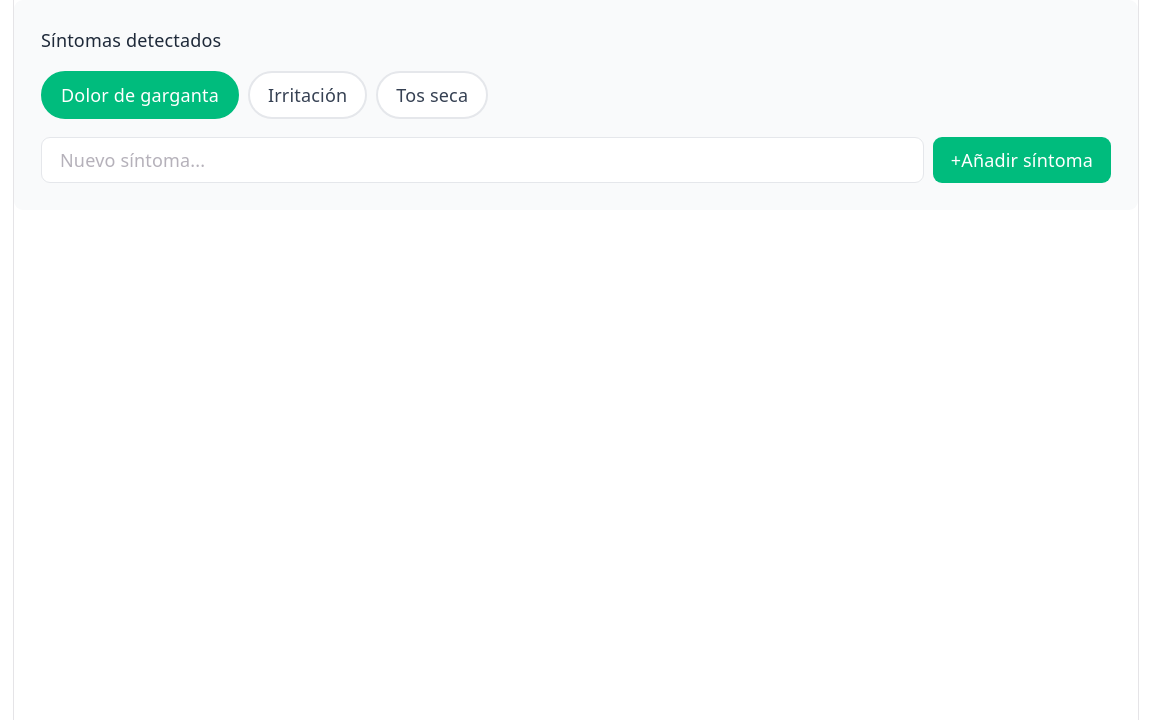
Test: SymptomsSection › adds new symptom, selects it and clears input when submitting "Añadir síntoma"
Type "Fiebre" into the field named "añadir síntoma" at (482, 160), box [41, 137, 924, 183]
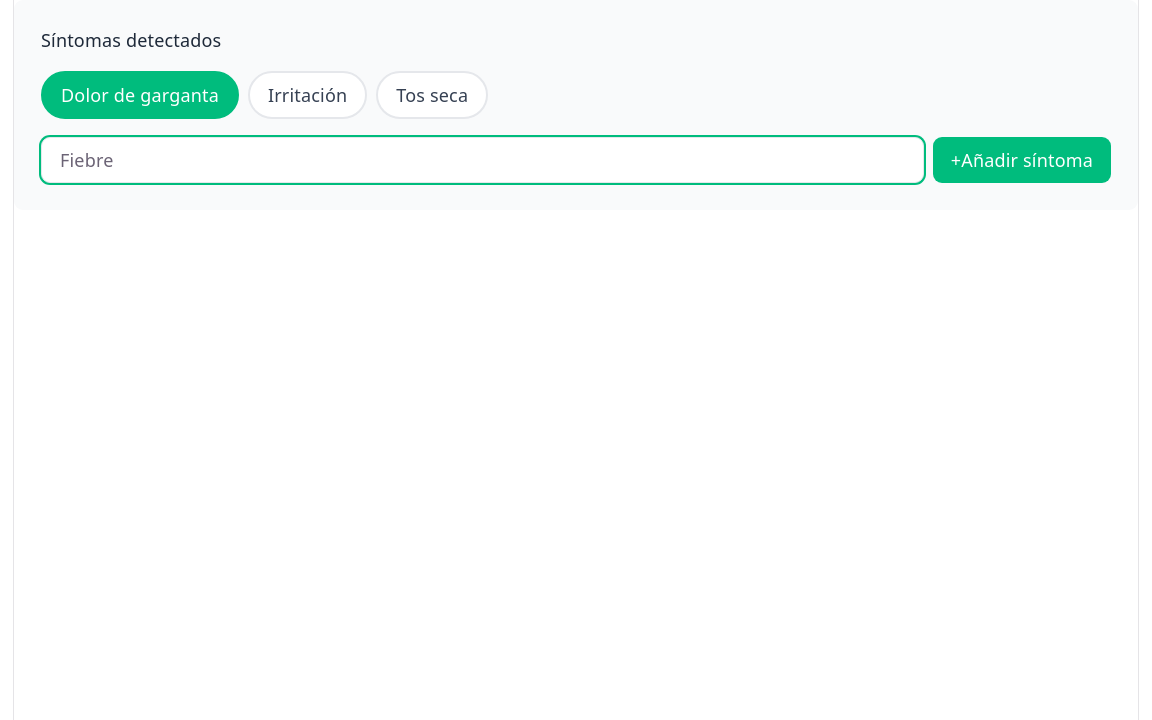
Click the button "+Añadir síntoma" at (1022, 160), box [933, 137, 1111, 183]
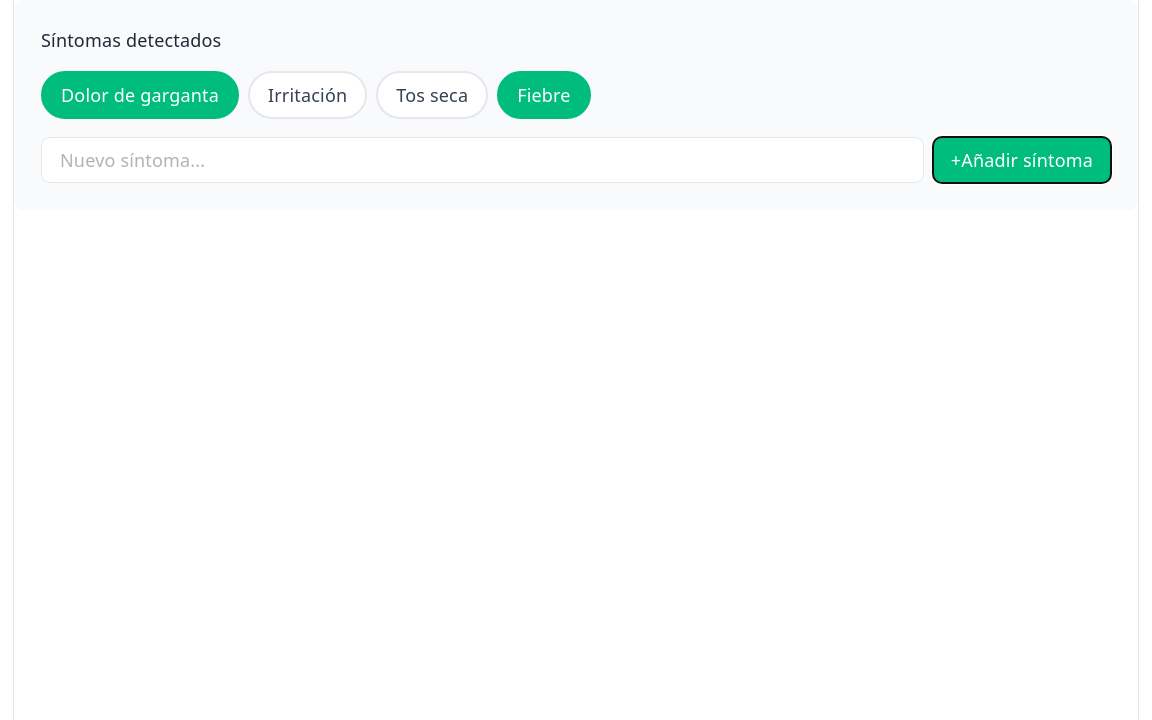
Now the button "Fiebre" is shown, box [497, 71, 591, 119]
Now the field named "añadir síntoma" is empty, box [41, 137, 924, 183]
